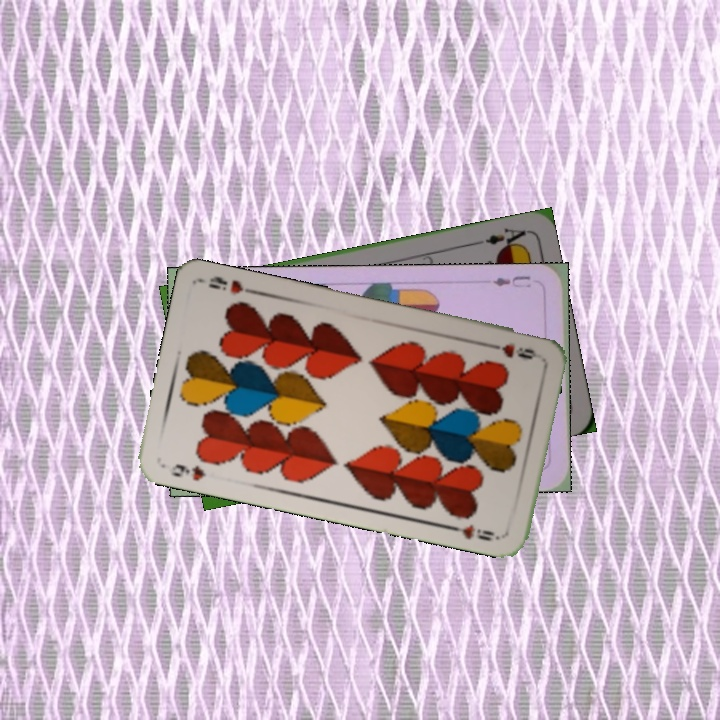EA: (471, 223, 529, 252)
EU: (489, 271, 533, 290)
H9: (483, 339, 542, 362), (162, 459, 208, 483)
